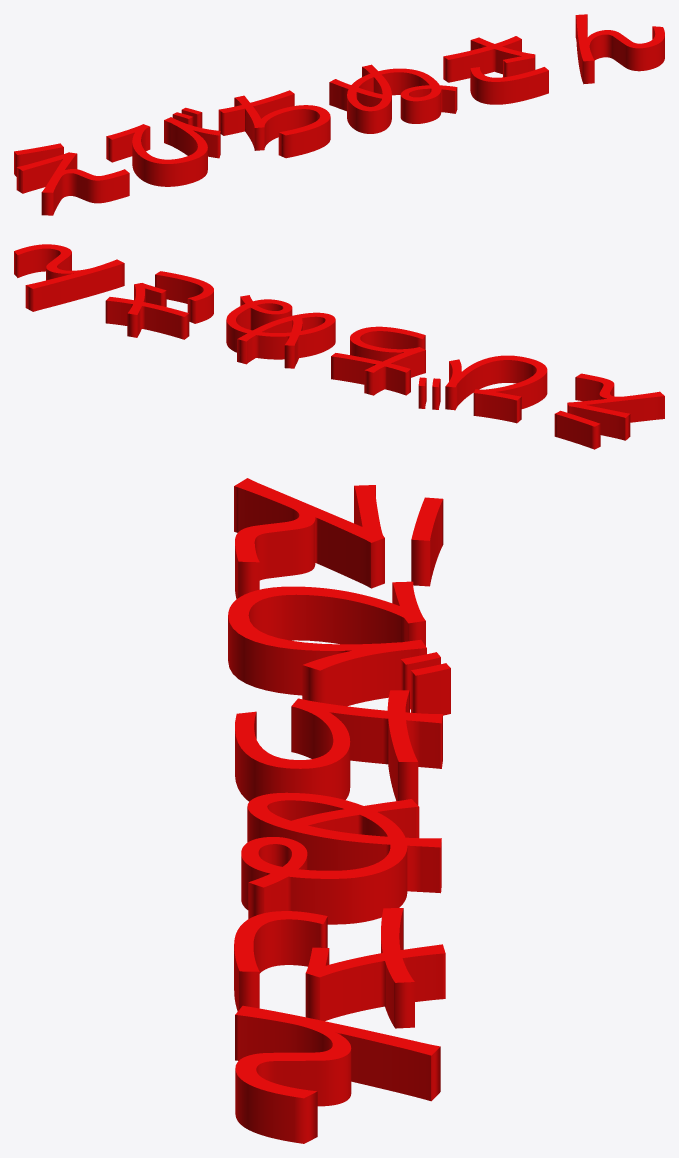
Rendered from えびちぬさん.fbx.
3 renders of one model, top to bottom at view 1: azimuth 30°, elevation 25°; view 2: azimuth 150°, elevation 25°; view 3: azimuth 270°, elevation 25°, orthographic. The views are drawn at different scales.
Visible parts, largest first — view 1: My3DTextObject; view 2: My3DTextObject; view 3: My3DTextObject.
Boxes of the visible parts, x1=… form: My3DTextObject: x1=14, y1=14, x2=664, y2=215; My3DTextObject: x1=14, y1=244, x2=664, y2=449; My3DTextObject: x1=228, y1=478, x2=450, y2=1143.
Bounding box in the file's own units: 583 × 20 × 88.5.
